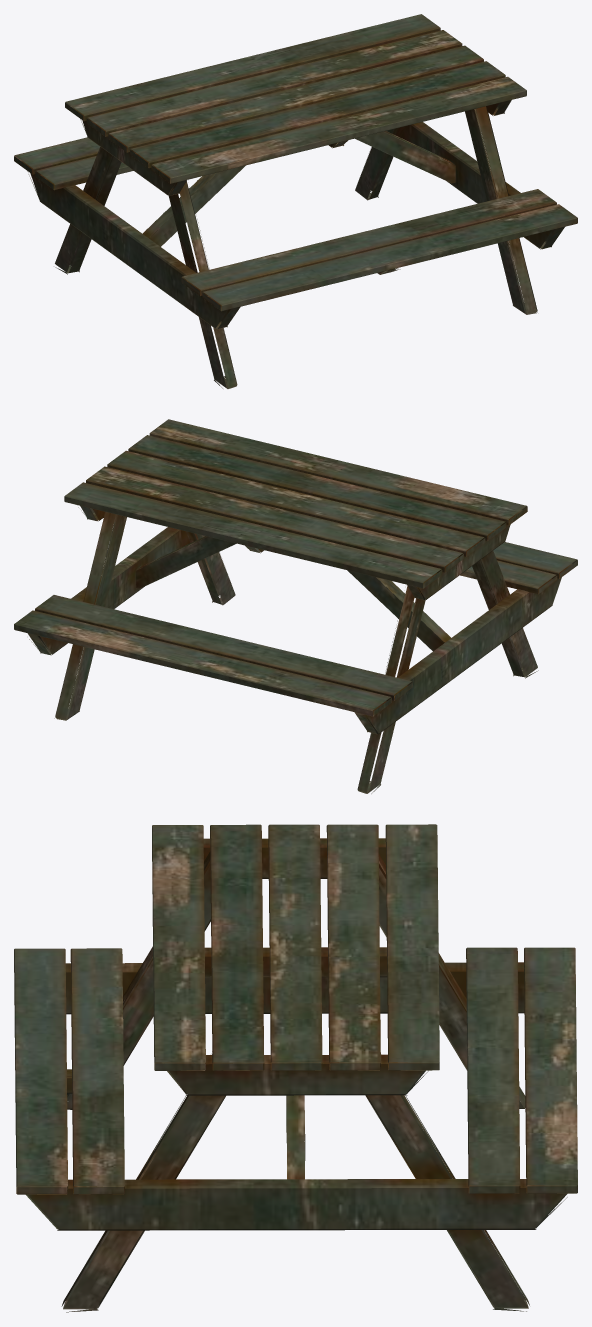
Rendered from table-14.glb.
3 views of the same model, one above another, from view 1: azimuth 30°, elevation 25°; view 2: azimuth 150°, elevation 25°; view 3: azimuth 270°, elevation 25° (orthographic). The views are drawn at different scales.
Visible parts, largest first — view 1: pCube13, pCube16, pCube30, pCube35, pCube31, pCube32, pCube33, pCube34, pCube29, pCube37, pCube26, pCube3 (+2 smaller); view 2: pCube13, pCube16, pCube31, pCube3, pCube32, pCube33, pCube35, pCube34, pCube28, pCube37, pCube26, pCube30 (+2 smaller); view 3: pCube16, pCube13, pCube33, pCube28, pCube31, pCube29, pCube32, pCube3, pCube30, pCube34, pCube35, pCube14 (+2 smaller).
Part boxes in pixels (x1,y1,x2,y2): pCube13: [55, 106, 537, 388]; pCube16: [27, 122, 564, 329]; pCube30: [202, 204, 577, 311]; pCube35: [151, 76, 526, 183]; pCube31: [65, 14, 440, 121]; pCube32: [86, 30, 462, 136]; pCube33: [108, 45, 483, 152]; pCube34: [130, 61, 505, 168]; pCube29: [181, 189, 556, 295]; pCube37: [355, 131, 455, 183]; pCube26: [142, 165, 245, 246]; pCube3: [14, 137, 100, 174]; pCube13: [54, 512, 538, 793]; pCube16: [28, 527, 561, 734]; pCube31: [64, 482, 442, 588]; pCube3: [14, 610, 391, 716]; pCube32: [86, 466, 463, 572]; pCube33: [107, 450, 485, 556]; pCube35: [149, 419, 527, 525]; pCube34: [128, 435, 506, 541]; pCube28: [35, 595, 412, 700]; pCube37: [135, 536, 236, 588]; pCube26: [347, 570, 450, 651]; pCube30: [493, 542, 577, 578]; pCube16: [20, 962, 567, 1230]; pCube13: [61, 851, 529, 1312]; pCube33: [268, 824, 322, 1070]; pCube28: [466, 947, 520, 1193]; pCube31: [385, 824, 439, 1070]; pCube29: [70, 948, 124, 1194]; pCube32: [326, 824, 380, 1070]; pCube3: [524, 947, 577, 1193]; pCube30: [14, 948, 67, 1194]; pCube34: [210, 824, 264, 1070]; pCube35: [152, 825, 205, 1070]; pCube14: [162, 838, 429, 1095].
Bounding box in the file's own units: 9.48 × 4.88 × 9.45.
Materials: 1 (1 with a texture image).
